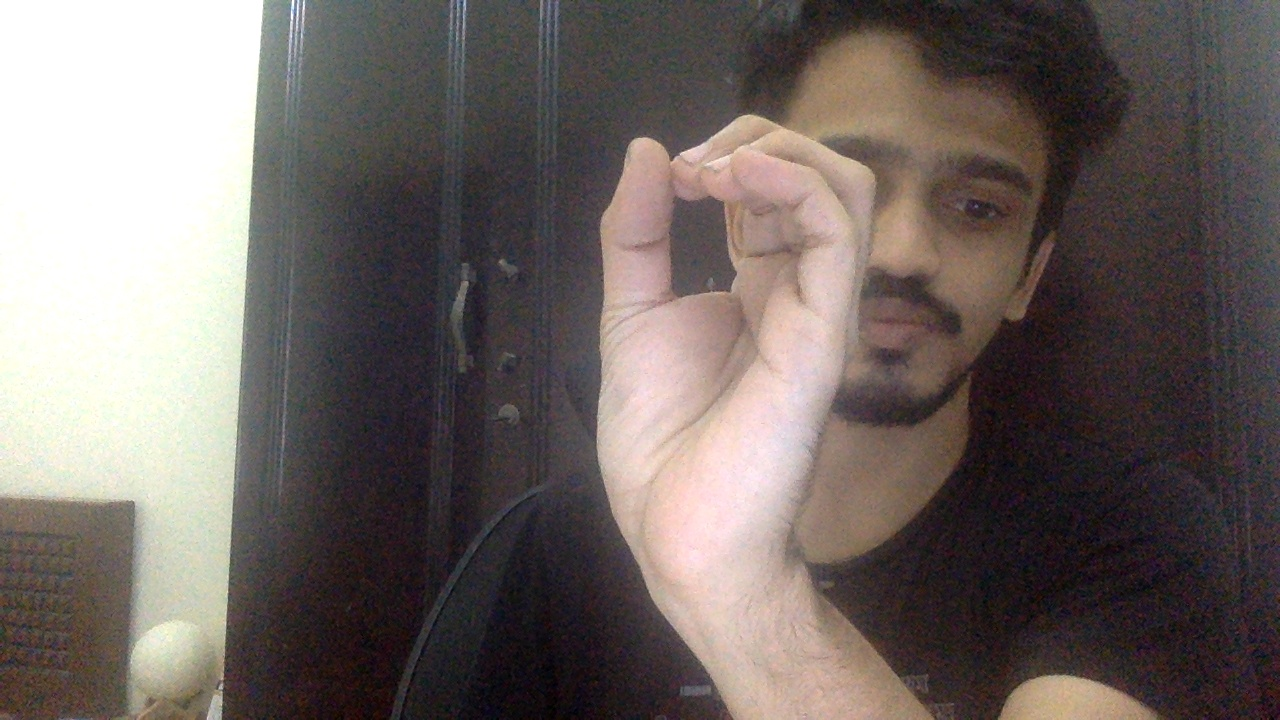zero: (591, 113, 875, 571)
